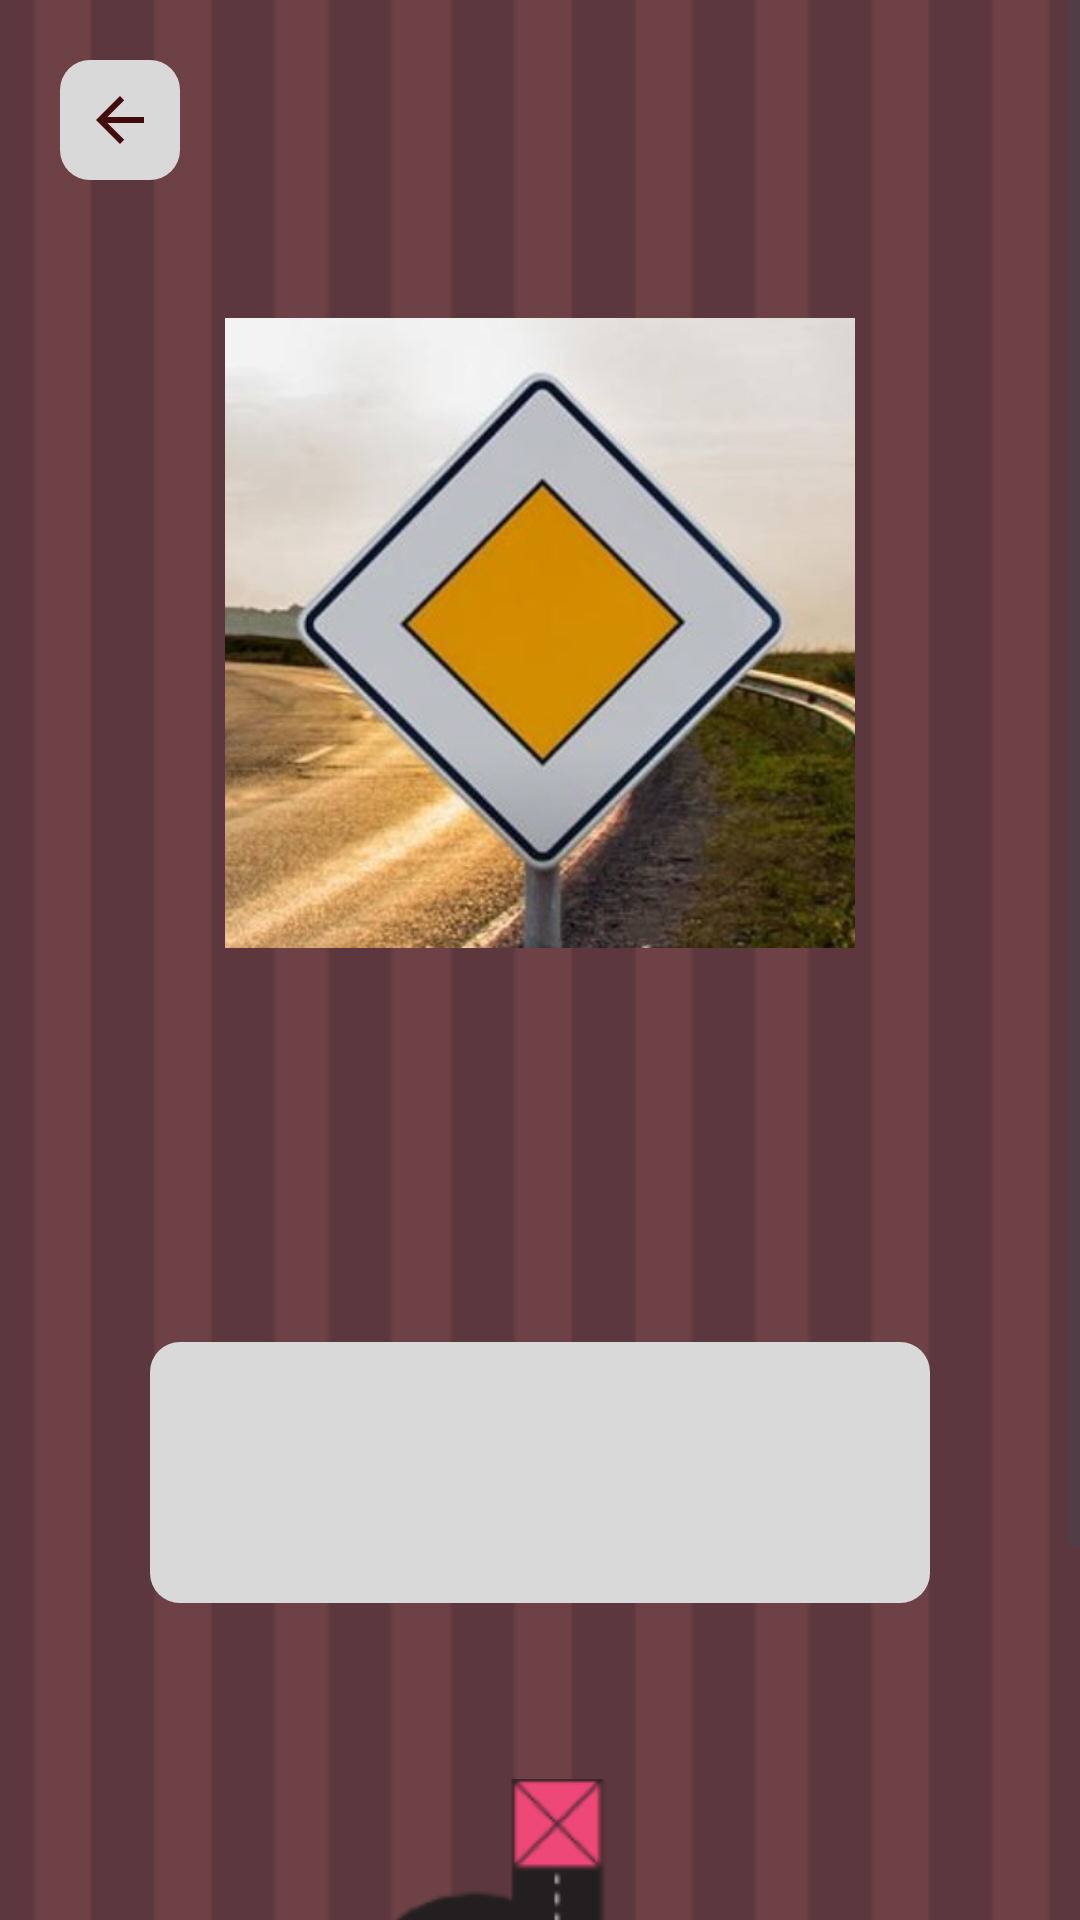

Screen size 1080 x 1920. Icon name, then its box in pixels as detection(x1, y1, x2, y2):
Назад: detection(60, 60, 180, 180)
